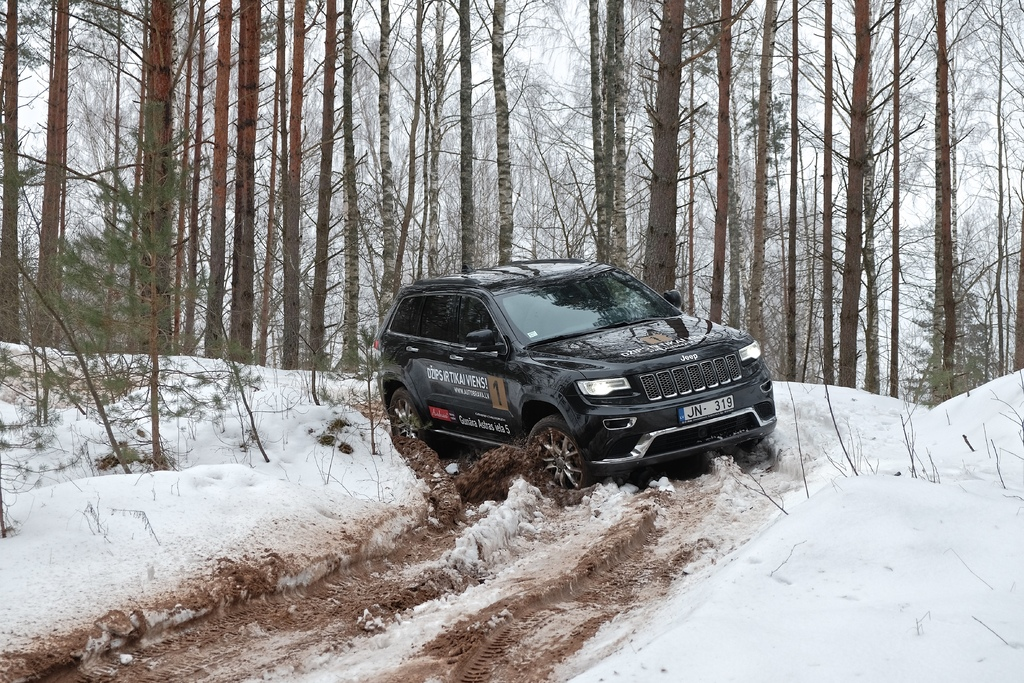Car: (369, 253, 777, 497)
